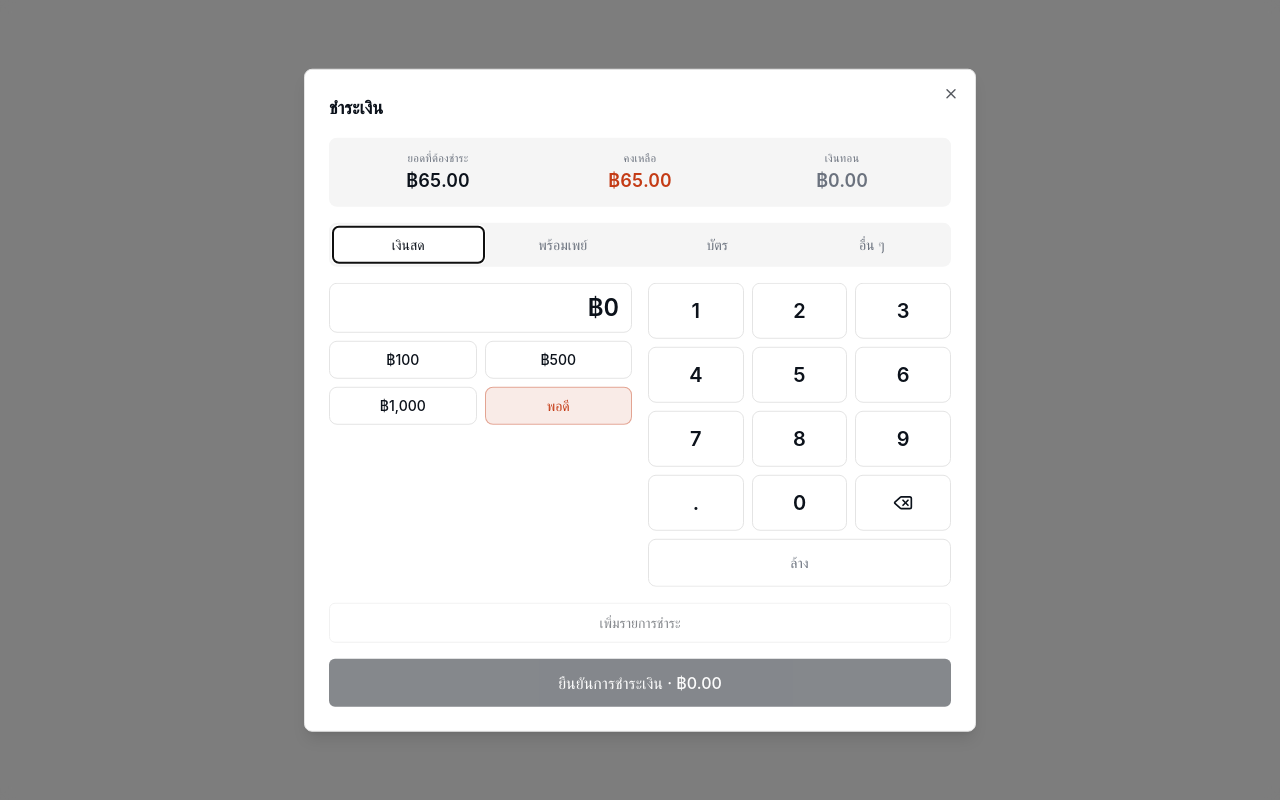
PaymentDialog › cash overpayment adds a tender, shows change, and submits
Click the button "1" at (696, 310), box top-left (648, 282), bottom-right (744, 338)
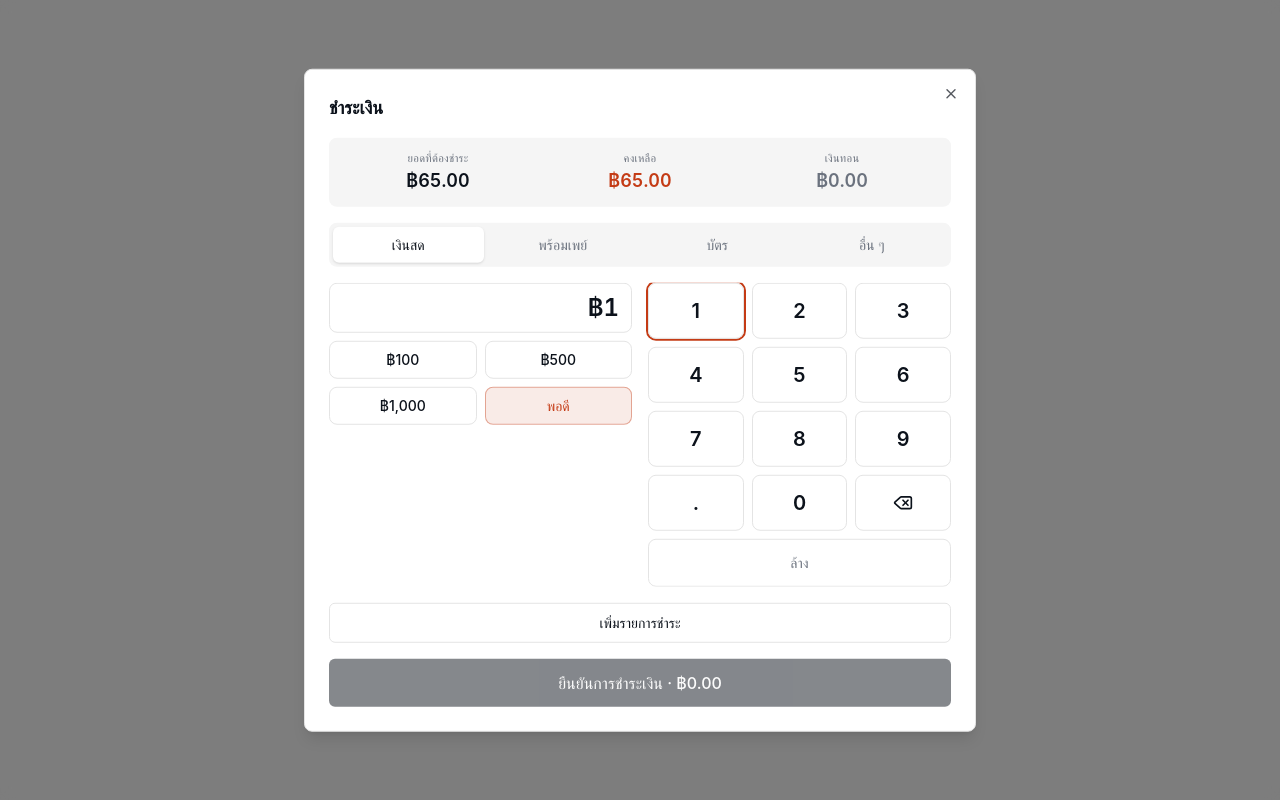
Click the button "0" at (800, 502), box top-left (752, 474), bottom-right (847, 530)
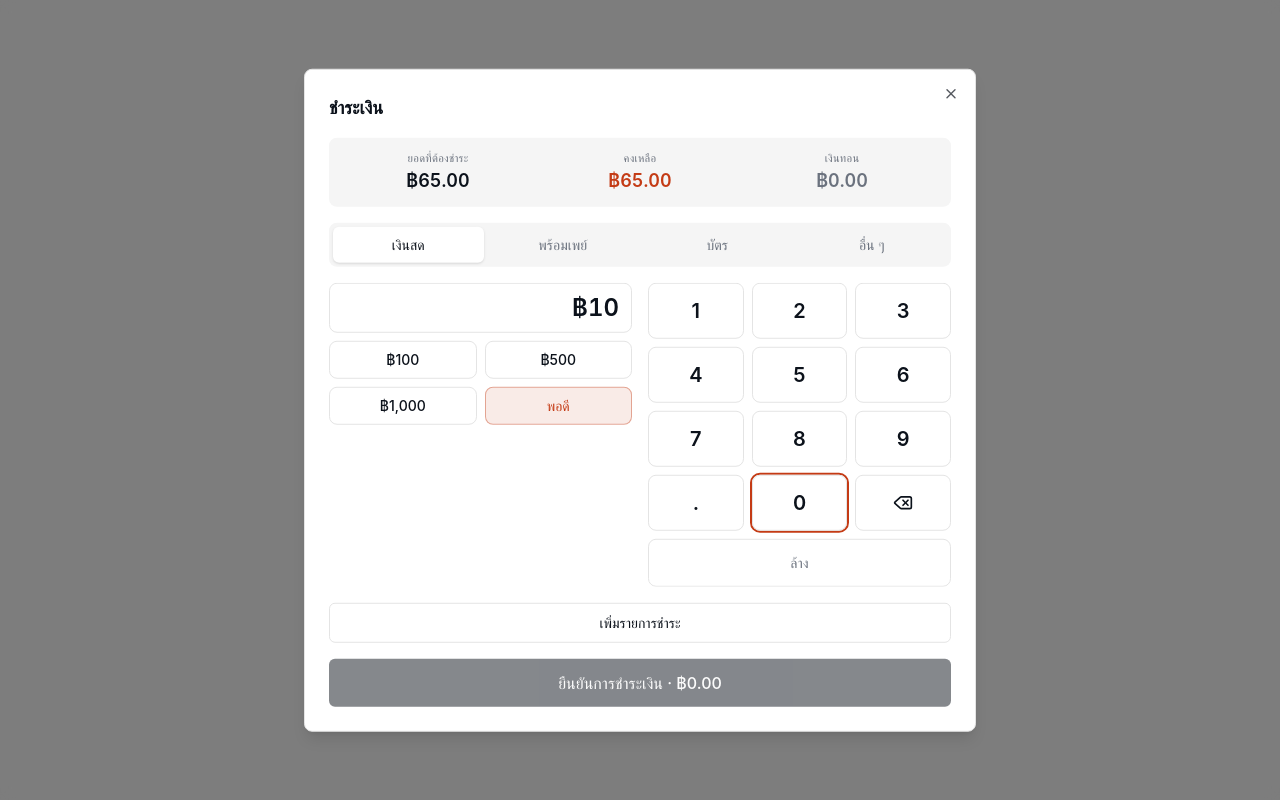
Click the button "0" at (800, 502), box top-left (752, 474), bottom-right (847, 530)
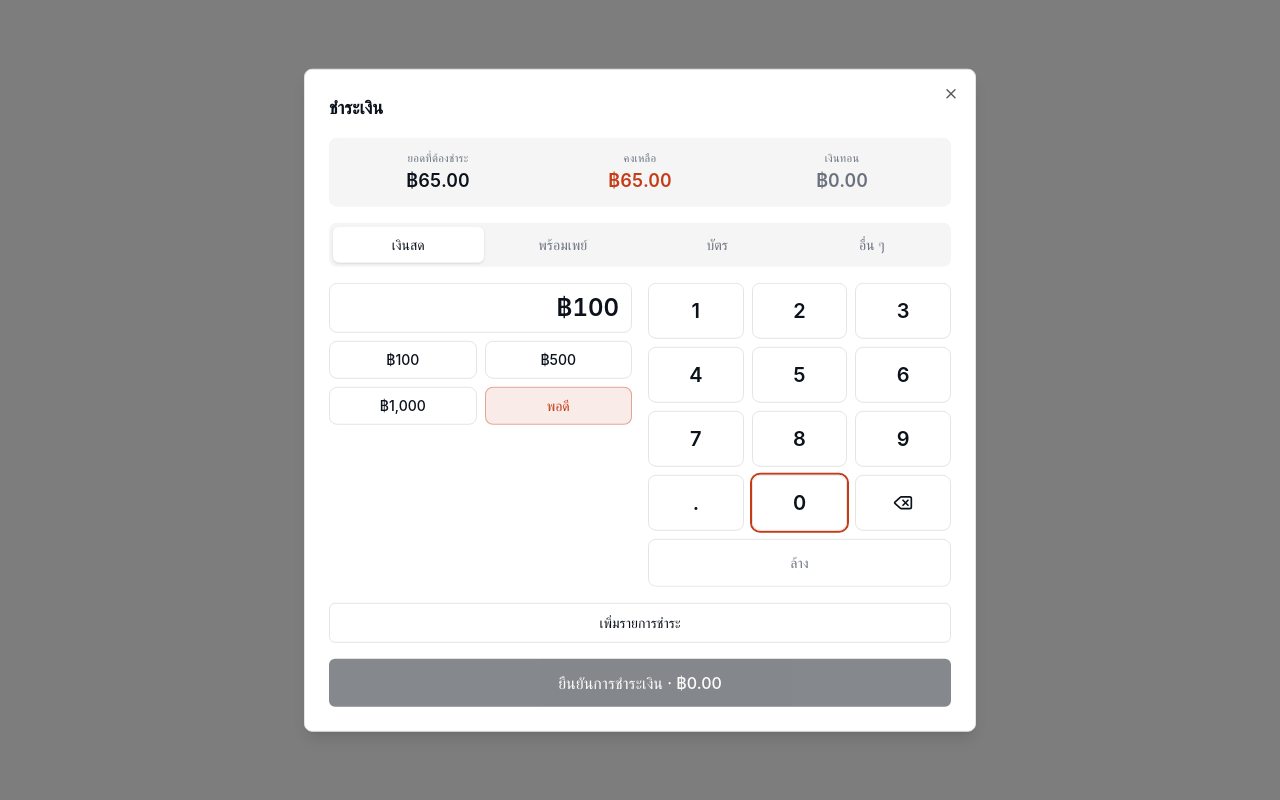
Click the button "เพิ่มรายการชำระ" at (640, 622), box top-left (329, 602), bottom-right (951, 642)
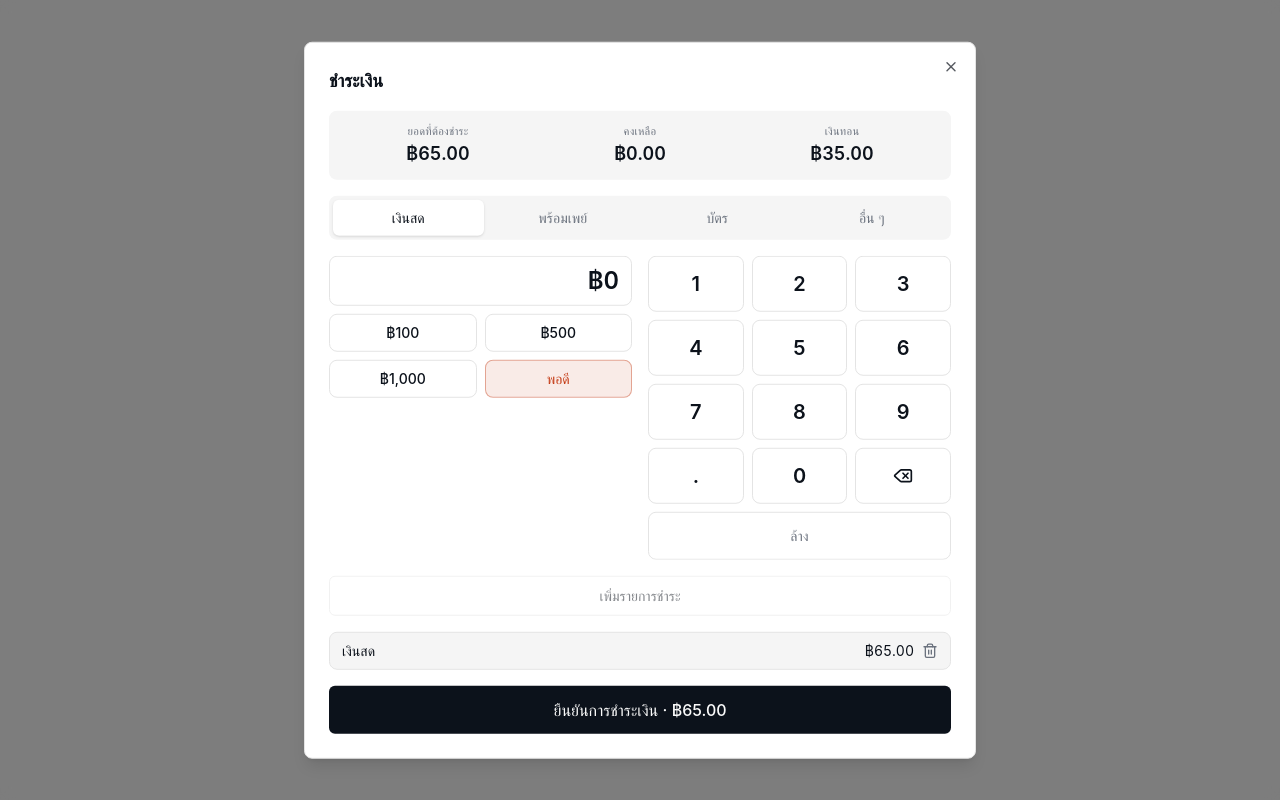
Result: the text "฿35.00" is shown at top-left (810, 142), bottom-right (874, 163)
Result: the button "ยืนยันการชำระเงิน · ฿65.00" is enabled
Click the button "ยืนยันการชำระเงิน · ฿65.00" at (640, 709), box top-left (329, 685), bottom-right (951, 733)
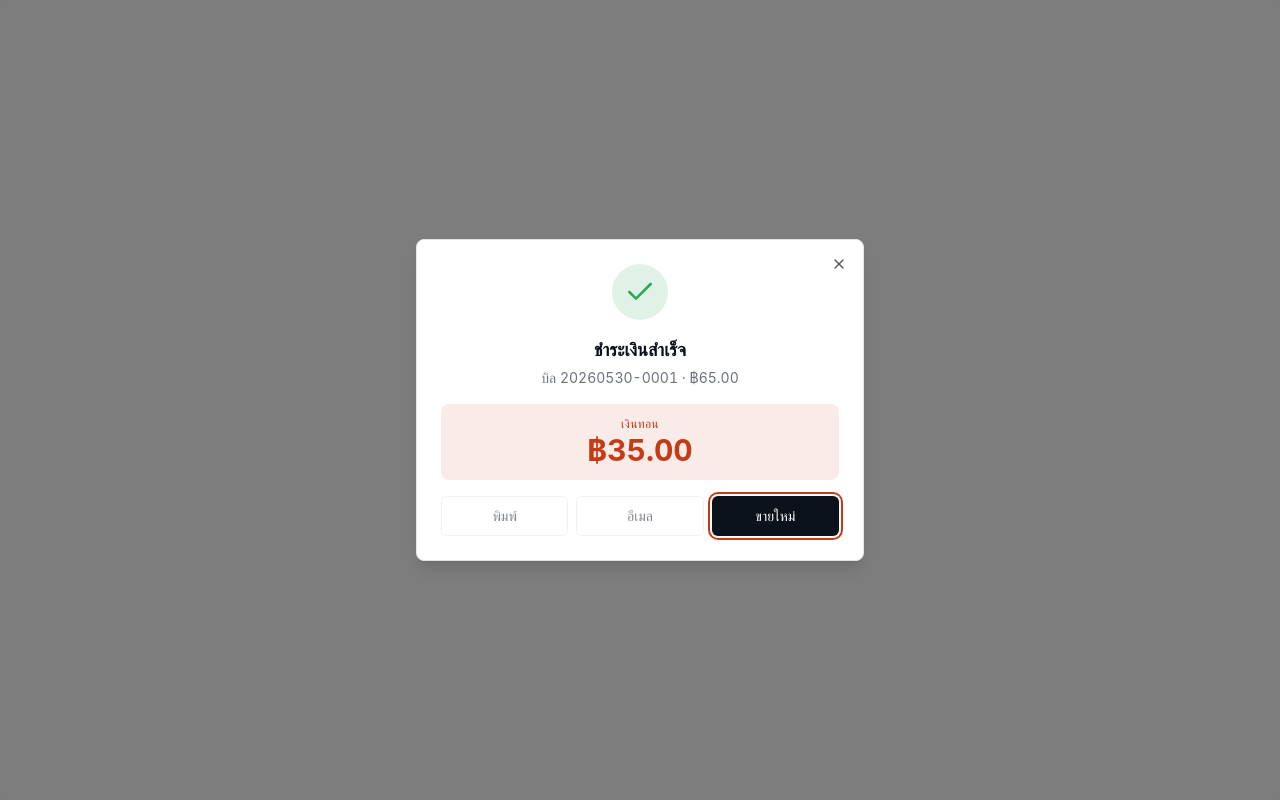
Result: the heading "ชำระเงินสำเร็จ" is shown at top-left (594, 339), bottom-right (686, 360)
